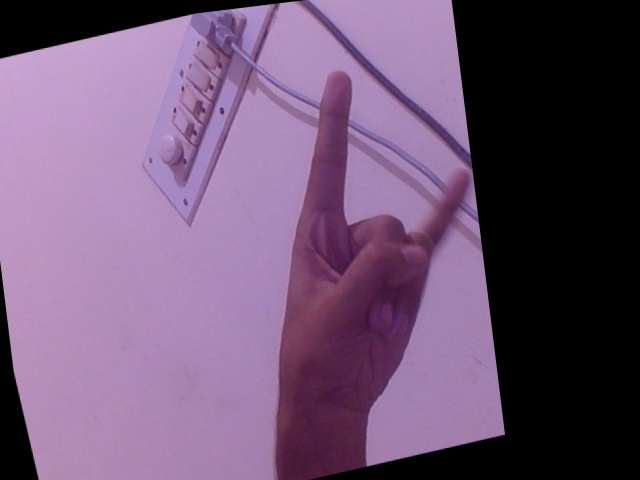hand: (272, 67, 476, 435)
